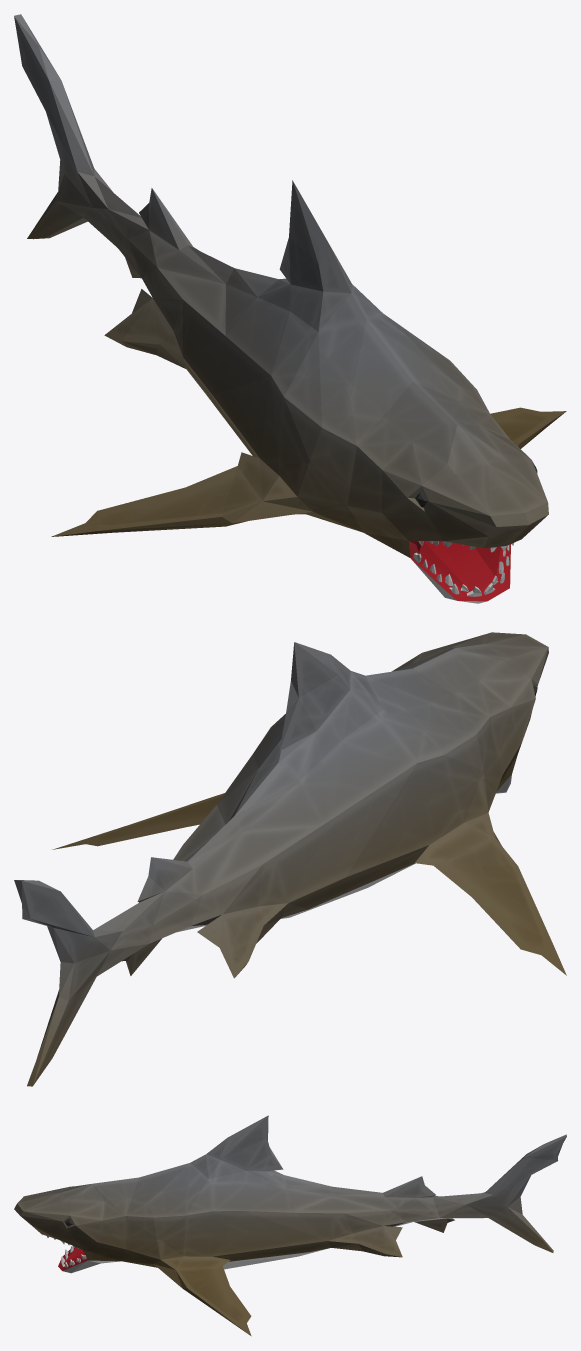
Rendered from shark.obj.
3 renders of one model, top to bottom at view 1: azimuth 30°, elevation 25°; view 2: azimuth 150°, elevation 25°; view 3: azimuth 270°, elevation 25°, orthographic. The views are drawn at different scales.
Visible parts, largest first — view 1: shark_01___body.001; view 2: shark_01___body.001; view 3: shark_01___body.001.
Boxes of the visible parts, left/top/right/bottom form: shark_01___body.001: left=14, top=14, right=566, bottom=603; shark_01___body.001: left=14, top=632, right=566, bottom=1086; shark_01___body.001: left=14, top=1115, right=566, bottom=1336.
Bounding box in the file's own units: 2.08 × 1.11 × 3.57.
1 material, 1 textured.
